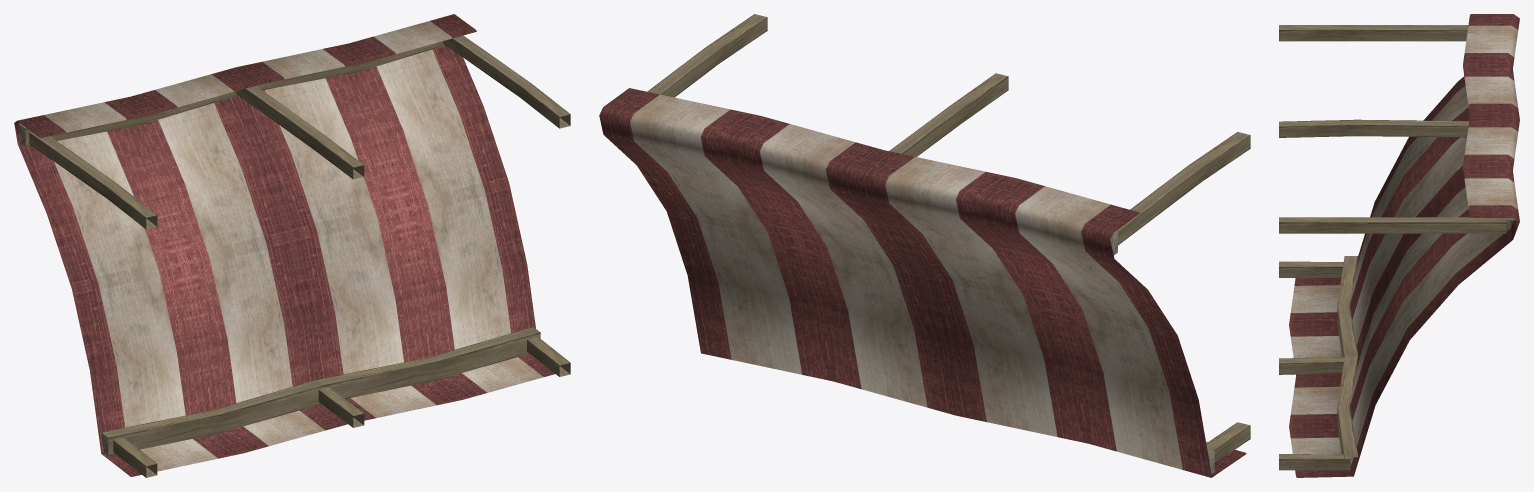
The model's file is Tent_Beach_Long_C.fbx.
3 renders of one model, left to right at view 1: azimuth 30°, elevation 25°; view 2: azimuth 150°, elevation 25°; view 3: azimuth 270°, elevation 25°, orthographic. The views are drawn at different scales.
Parts seen in each view (by area): view 1: Tent_Beach_Long_C; view 2: Tent_Beach_Long_C; view 3: Tent_Beach_Long_C.
Boxes of the visible parts, x1,y1,x2,y2 form: Tent_Beach_Long_C: (14,14,570,477); Tent_Beach_Long_C: (599,14,1250,477); Tent_Beach_Long_C: (1279,14,1519,477).
Size of the model in its own units: 7.6 by 4.54 by 3.81.
